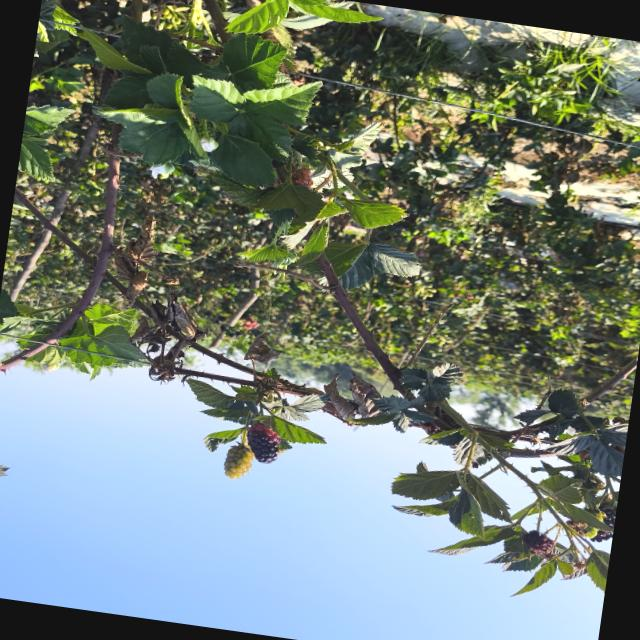marron: (248, 423, 281, 463)
verde: (224, 445, 254, 479)
